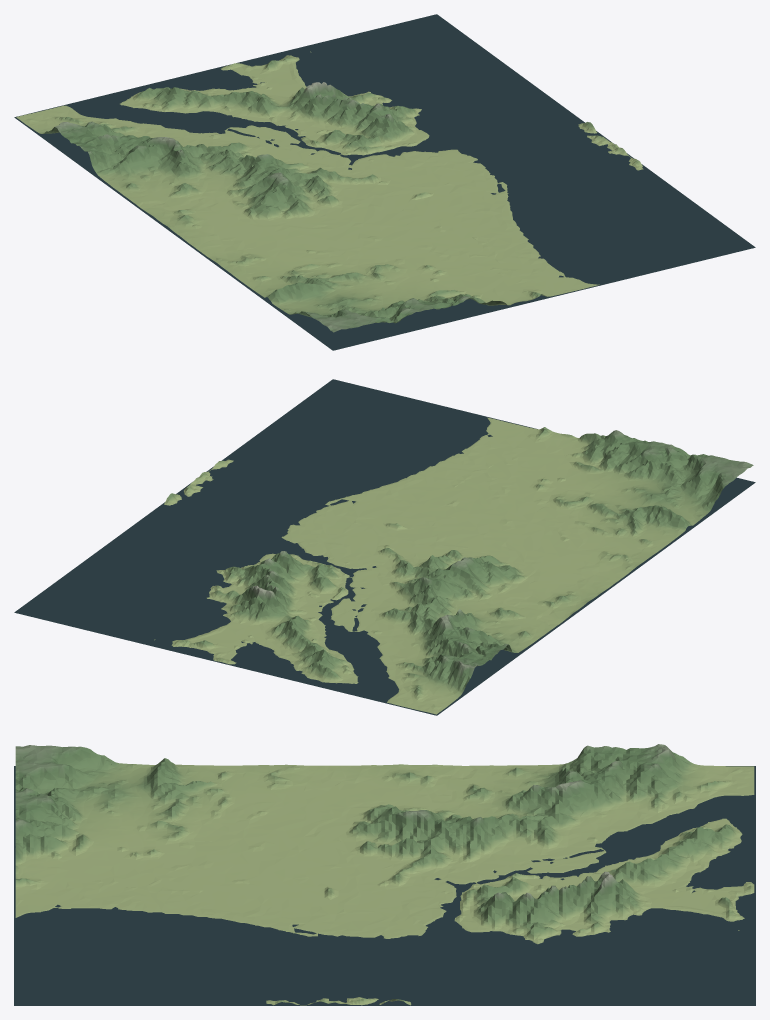
File: herbert.glb
3 views of the same model, one above another, from view 1: azimuth 30°, elevation 25°; view 2: azimuth 150°, elevation 25°; view 3: azimuth 270°, elevation 25° (orthographic). The views are drawn at different scales.
Parts seen in each view (by area): view 1: HerbertLand, HerbertSea; view 2: HerbertLand, HerbertSea; view 3: HerbertLand, HerbertSea.
Part boxes in pixels (bbox=[...]): HerbertLand: bbox=[16, 51, 643, 332]; HerbertSea: bbox=[14, 14, 755, 350]; HerbertLand: bbox=[154, 417, 753, 714]; HerbertSea: bbox=[14, 379, 755, 715]; HerbertLand: bbox=[15, 744, 754, 1005]; HerbertSea: bbox=[14, 766, 755, 1005].
Bounding box in the file's own units: 58.08 × 3.09 × 75.87.
